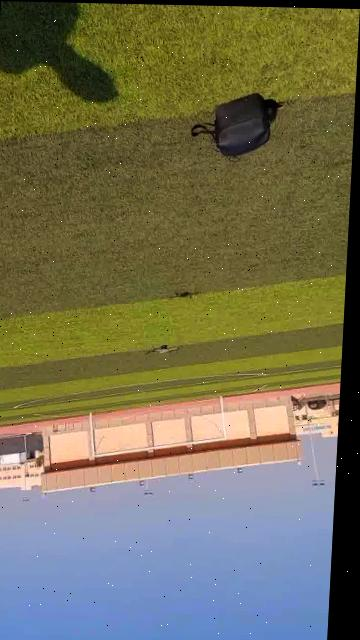drone: (126, 322, 186, 368)
